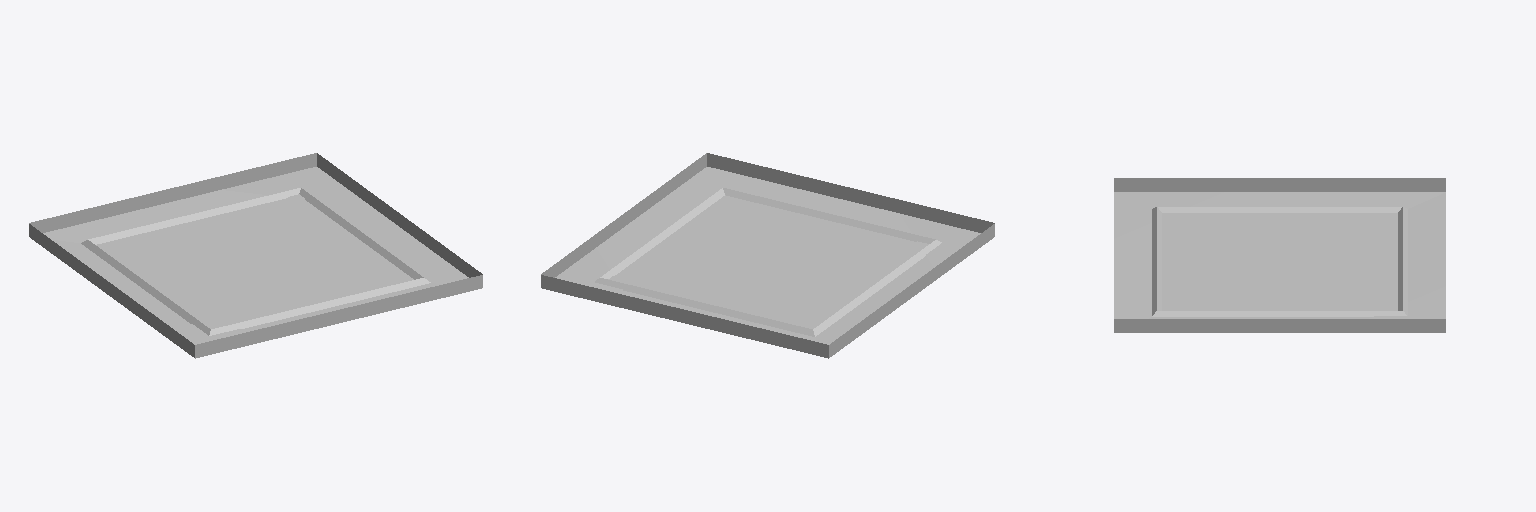
The model's file is Ceiling_Light.obj.
3 renders of one model, left to right at view 1: azimuth 30°, elevation 25°; view 2: azimuth 150°, elevation 25°; view 3: azimuth 270°, elevation 25°, orthographic.
Visible parts, largest first — view 1: Ceiling_Light; view 2: Ceiling_Light; view 3: Ceiling_Light.
Boxes of the visible parts, x1=… form: Ceiling_Light: x1=29, y1=153, x2=482, y2=358; Ceiling_Light: x1=541, y1=153, x2=994, y2=358; Ceiling_Light: x1=1114, y1=178, x2=1445, y2=332.
Bounding box in the file's own units: 3.31 × 0.157 × 3.31.